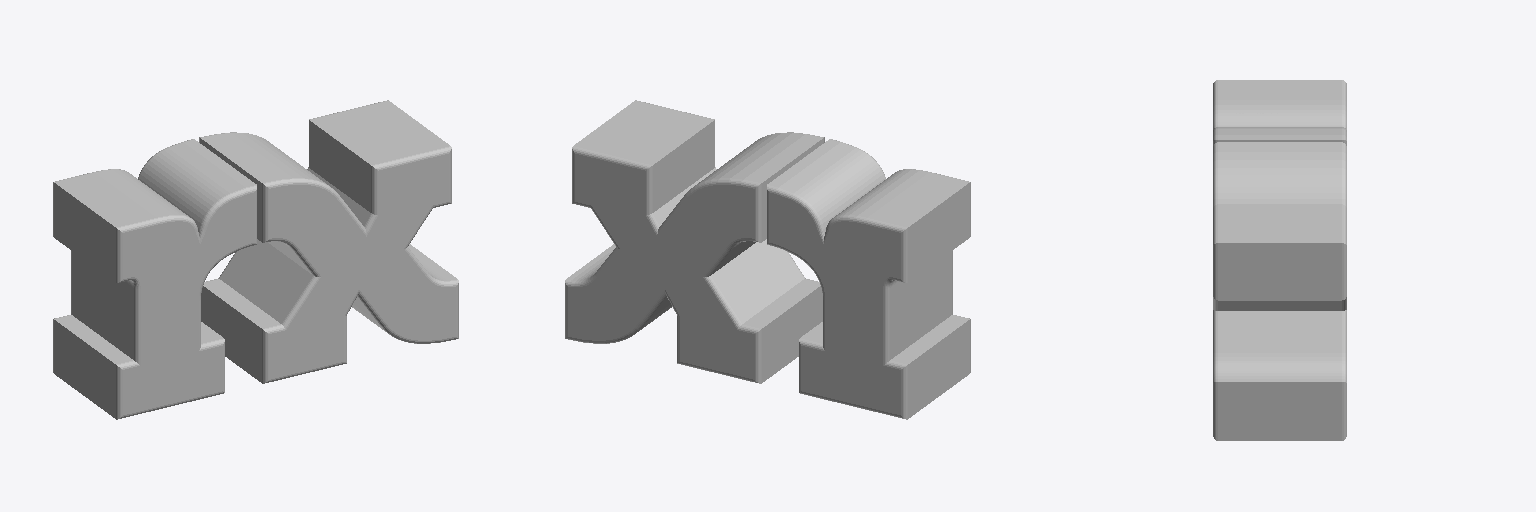
3 renders of one model, left to right at view 1: azimuth 30°, elevation 25°; view 2: azimuth 150°, elevation 25°; view 3: azimuth 270°, elevation 25°, orthographic.
Parts seen in each view (by area): view 1: Extrude.1; view 2: Extrude.1; view 3: Extrude.1.
Boxes of the visible parts, x1,y1,x2,y2 form: Extrude.1: [53, 100, 458, 419]; Extrude.1: [565, 100, 970, 419]; Extrude.1: [1213, 80, 1346, 440].
Size of the model in its own units: 15.89 by 9.01 by 5.4.